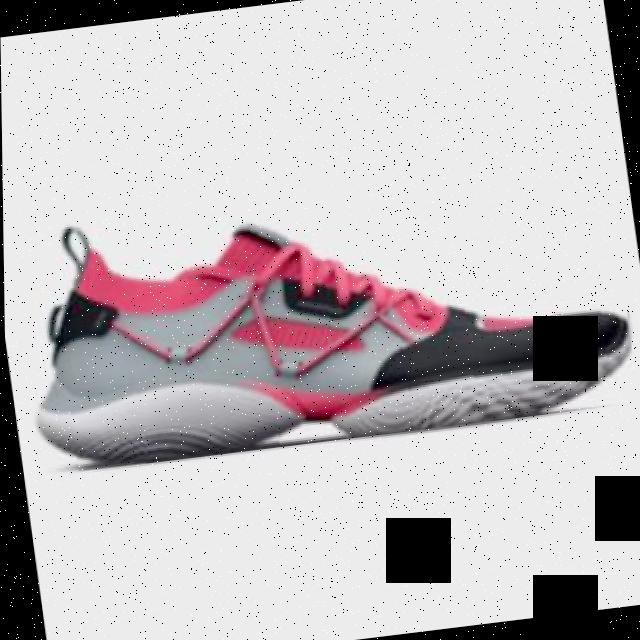shoe: (10, 162, 639, 476)
